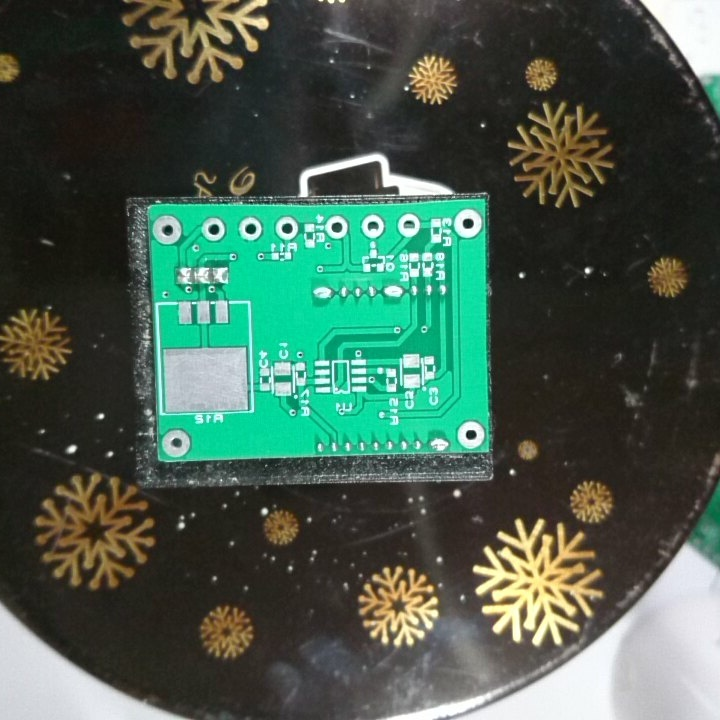F: (151, 212, 184, 247), (450, 207, 483, 240), (161, 427, 194, 459), (455, 420, 486, 450), (395, 210, 422, 240), (359, 210, 387, 238), (237, 215, 265, 243), (199, 215, 227, 243), (272, 215, 299, 242), (324, 214, 351, 240)
P: (427, 435, 453, 455), (380, 282, 405, 302), (311, 283, 334, 304)
